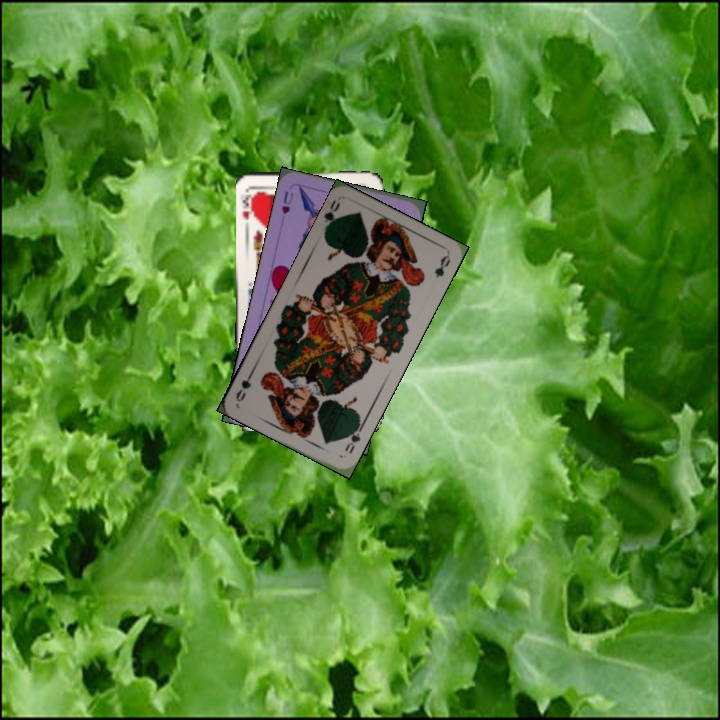GO: (340, 420, 366, 456), (320, 196, 343, 235)
HK: (239, 185, 258, 224)
HU: (278, 187, 296, 217)
